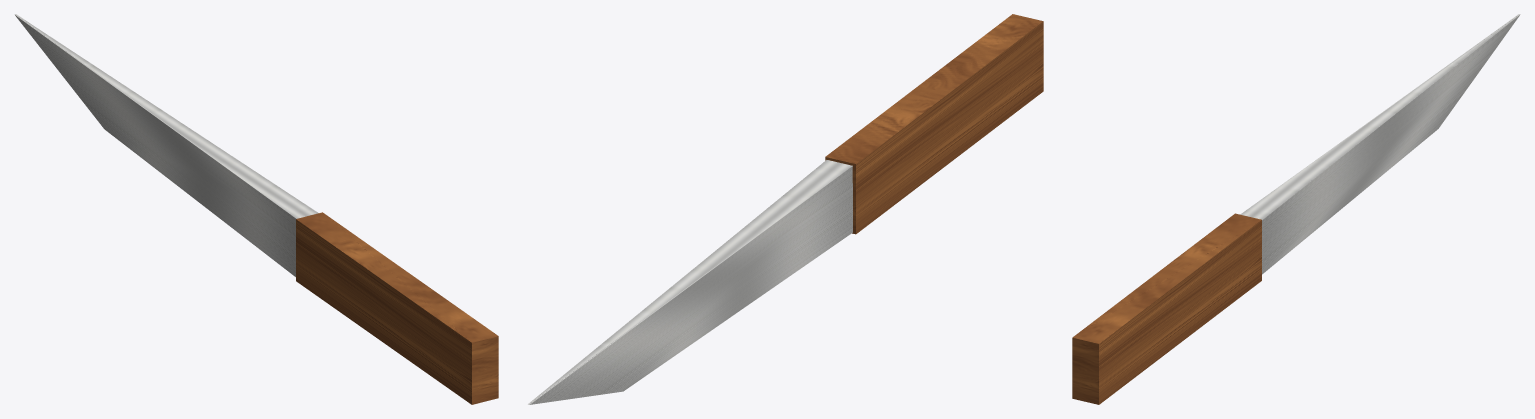
The model's file is houtyou.FBX.
The picture shows the model from 3 angles, left to right: view 1: azimuth 30°, elevation 25°; view 2: azimuth 150°, elevation 25°; view 3: azimuth 330°, elevation 25°; orthographic projection. The views are drawn at different scales.
Visible parts, largest first — view 1: Box002, Box001; view 2: Box001, Box002; view 3: Box002, Box001.
Part boxes in pixels (x1=…): Box002: x1=296, y1=212, x2=498, y2=404; Box001: x1=14, y1=14, x2=318, y2=276; Box001: x1=528, y1=160, x2=852, y2=404; Box002: x1=825, y1=14, x2=1043, y2=234; Box002: x1=1072, y1=213, x2=1261, y2=404; Box001: x1=1240, y1=14, x2=1520, y2=274.
Bounding box in the file's own units: 0.5687 × 13.97 × 1.05.
2 materials, 2 textured.
